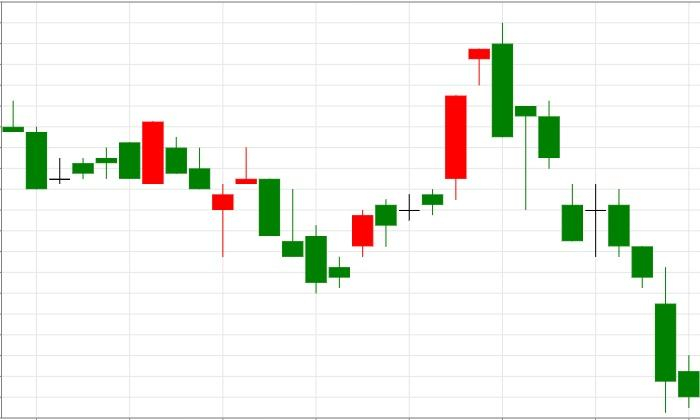bearish_engulfing_fall: (352, 22, 513, 256)
